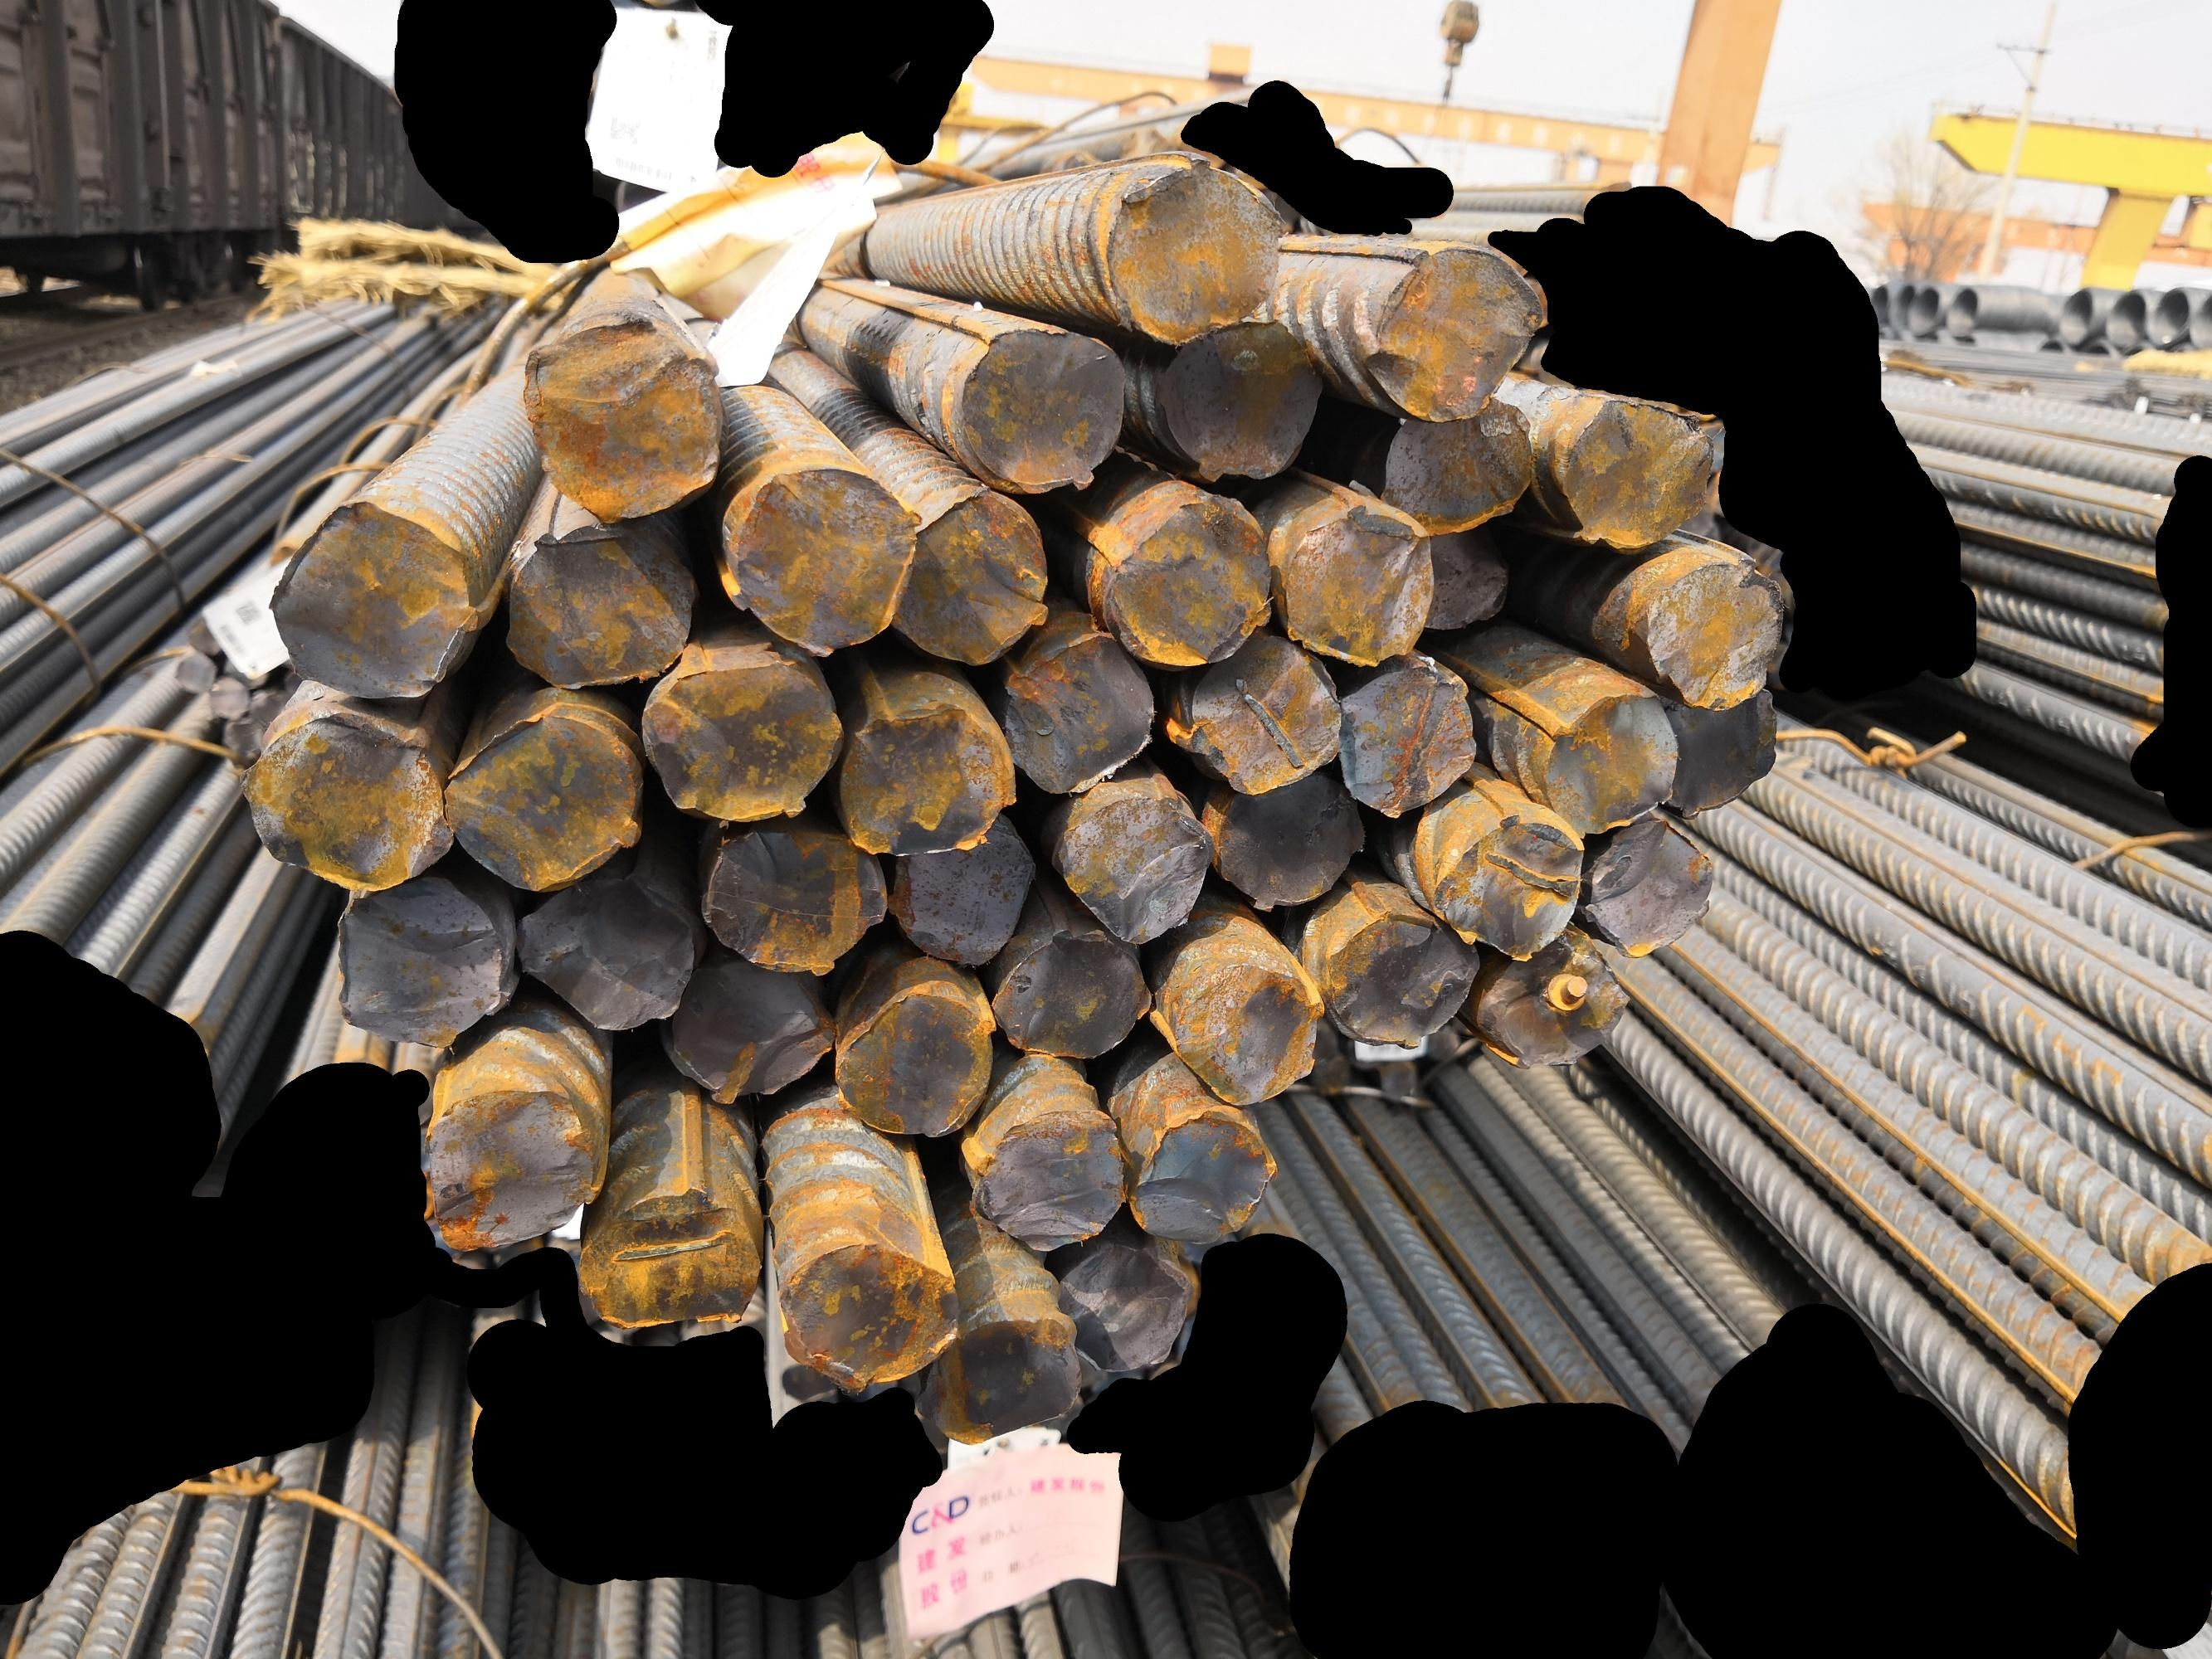bar: (265, 497, 483, 701), (521, 310, 720, 523), (237, 706, 457, 896), (720, 462, 922, 657), (441, 702, 645, 894), (1103, 150, 1286, 347), (638, 657, 847, 824), (502, 523, 699, 692), (1363, 240, 1544, 423), (422, 1079, 603, 1256), (335, 873, 516, 1049), (955, 324, 1126, 498), (885, 486, 1049, 666), (1107, 495, 1276, 667), (516, 873, 699, 1032), (776, 1236, 960, 1392), (838, 695, 1016, 857), (573, 1183, 763, 1331), (1157, 315, 1327, 481), (699, 831, 887, 976), (1175, 631, 1342, 793), (1278, 498, 1435, 669), (657, 958, 835, 1107), (1001, 627, 1156, 796), (1053, 788, 1217, 945), (830, 986, 995, 1140), (1557, 396, 1717, 552), (966, 1101, 1128, 1253), (1166, 957, 1325, 1108), (1426, 809, 1583, 960), (1321, 906, 1482, 1053), (1639, 551, 1785, 711), (913, 1312, 1084, 1446), (1337, 657, 1480, 817), (1211, 772, 1370, 915), (884, 819, 1037, 965), (1375, 397, 1536, 537), (988, 927, 1154, 1061), (1473, 929, 1630, 1070), (1130, 1101, 1276, 1244), (1539, 690, 1679, 836), (1584, 816, 1717, 964), (1055, 1237, 1196, 1373), (1659, 687, 1781, 821), (1414, 519, 1517, 633)
